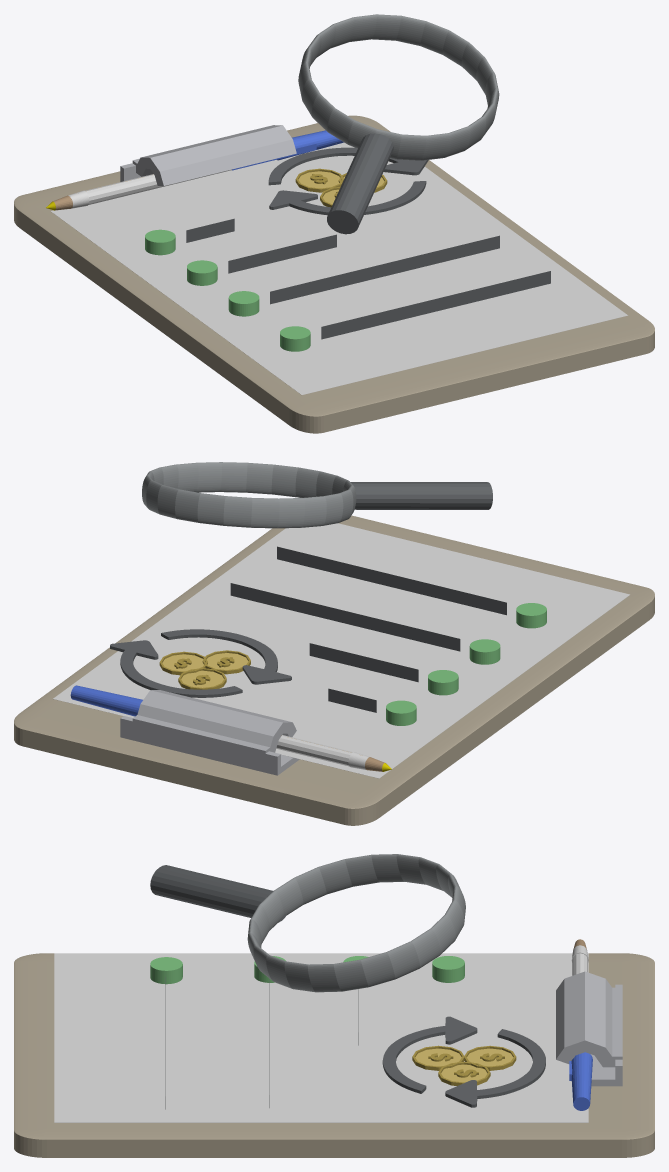
File: model_auditoria.glb
3 renders of one model, top to bottom at view 1: azimuth 30°, elevation 25°; view 2: azimuth 150°, elevation 25°; view 3: azimuth 270°, elevation 25°, orthographic. The views are drawn at different scales.
Visible parts, largest first — view 1: Mesh_Mesh_head_geo.001_lambert2SG.001; view 2: Mesh_Mesh_head_geo.001_lambert2SG.001; view 3: Mesh_Mesh_head_geo.001_lambert2SG.001.
Part boxes in pixels (box(x1,y1,x2,y2)): Mesh_Mesh_head_geo.001_lambert2SG.001: box(14, 14, 654, 433); Mesh_Mesh_head_geo.001_lambert2SG.001: box(14, 462, 654, 825); Mesh_Mesh_head_geo.001_lambert2SG.001: box(14, 854, 654, 1157).
Bounding box in the file's own units: 0.0297 × 0.0167 × 0.0432.
